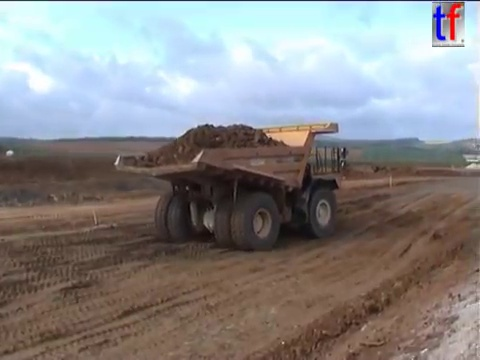truck: (112, 120, 349, 251)
